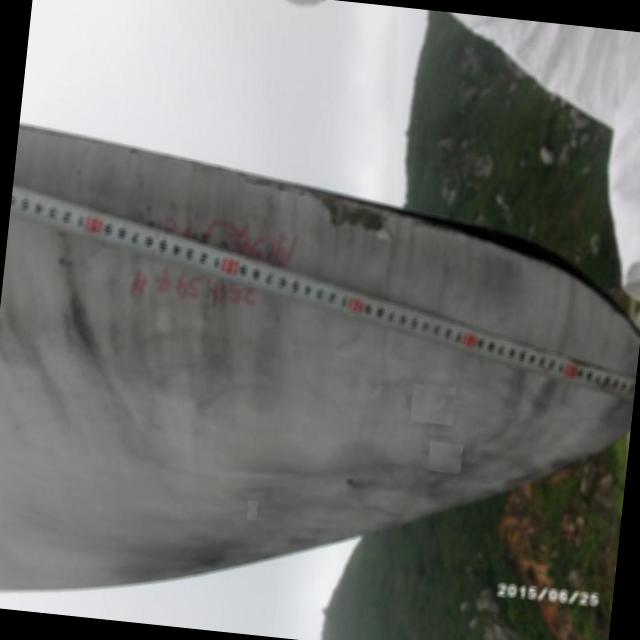crack: (391, 210, 640, 325)
surface_peeling: (310, 194, 390, 236)
